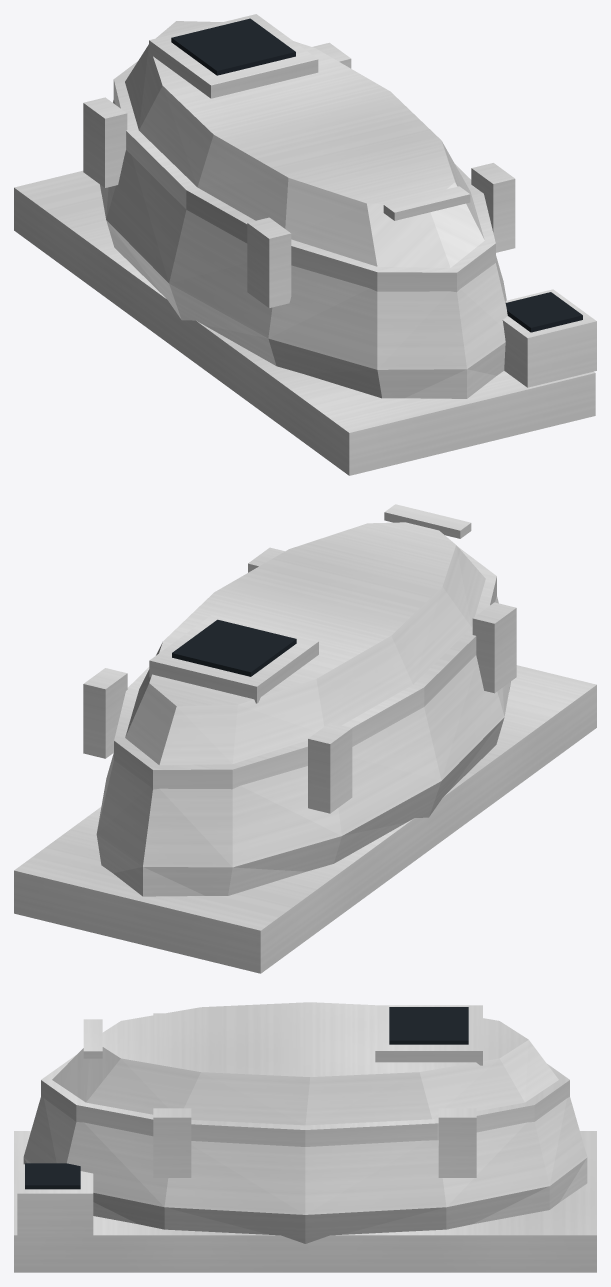
Rendered from ancient_cryptosleep_pod.obj.
3 renders of one model, top to bottom at view 1: azimuth 30°, elevation 25°; view 2: azimuth 150°, elevation 25°; view 3: azimuth 270°, elevation 25°, orthographic. The views are drawn at different scales.
Visible parts, largest first — view 1: ancient_cryptosleep_pod; view 2: ancient_cryptosleep_pod; view 3: ancient_cryptosleep_pod.
Boxes of the visible parts, <box> form: ancient_cryptosleep_pod: <box>14,14,596,475</box>; ancient_cryptosleep_pod: <box>14,504,596,973</box>; ancient_cryptosleep_pod: <box>14,1002,596,1272</box>.
Bounding box in the file's own units: 0.86 × 0.685 × 1.84.
